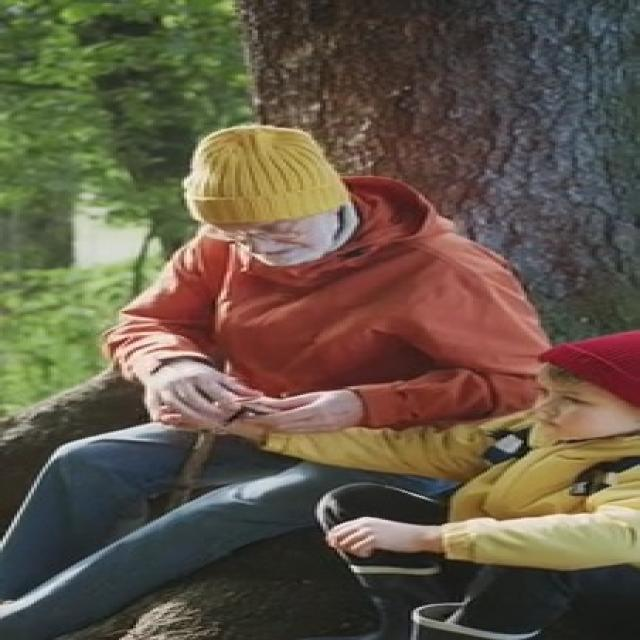Jacket_Wearer: (111, 198, 560, 440)
Person: (111, 117, 518, 491)
